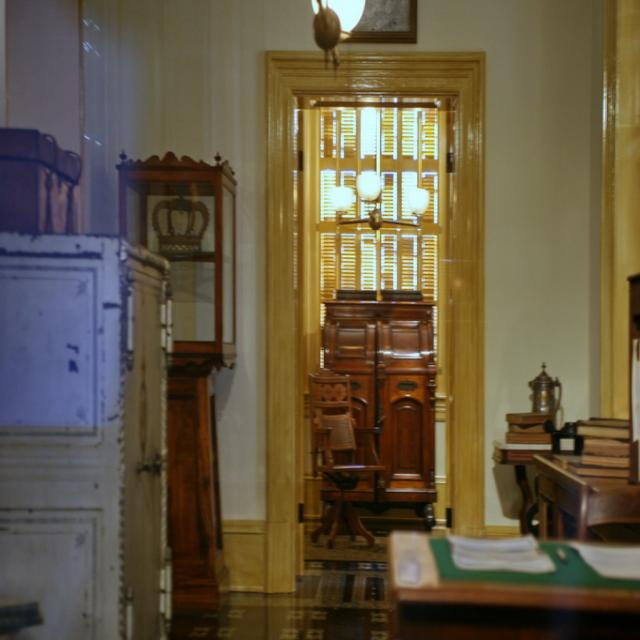chair: (306, 368, 389, 550)
desk: (501, 415, 638, 556)
